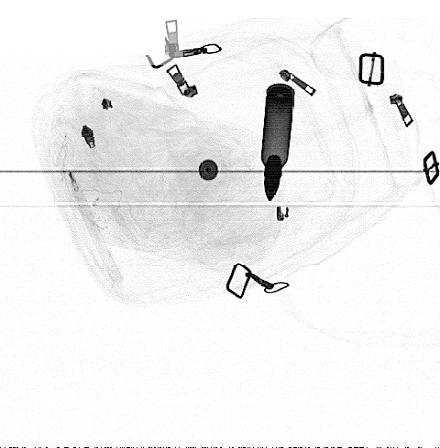Bullet: (260, 82, 296, 204)
